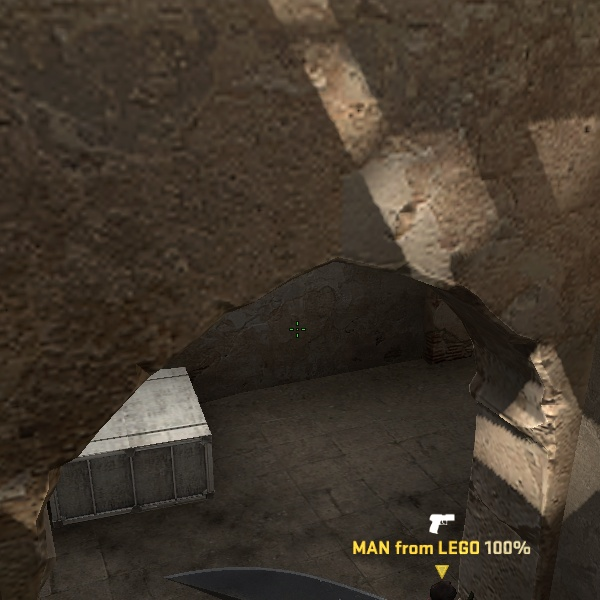t_body: (422, 578, 474, 600)
t_head: (429, 580, 457, 600)
